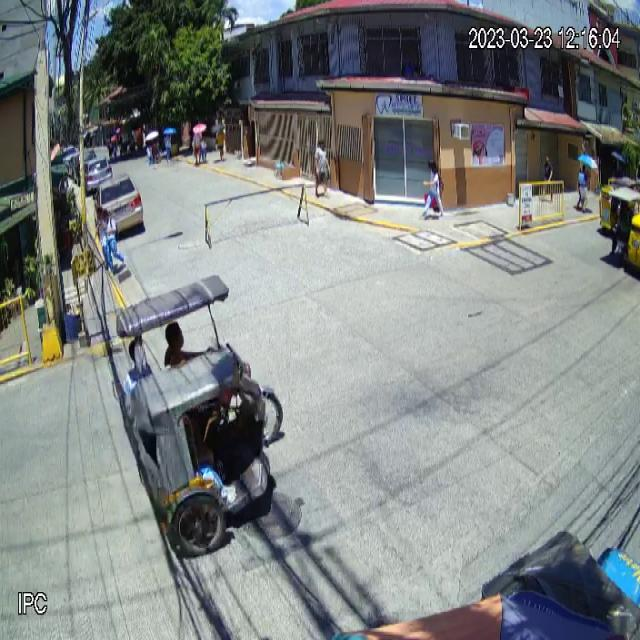Car: (94, 173, 144, 235)
Tricycle: (116, 275, 284, 554)
